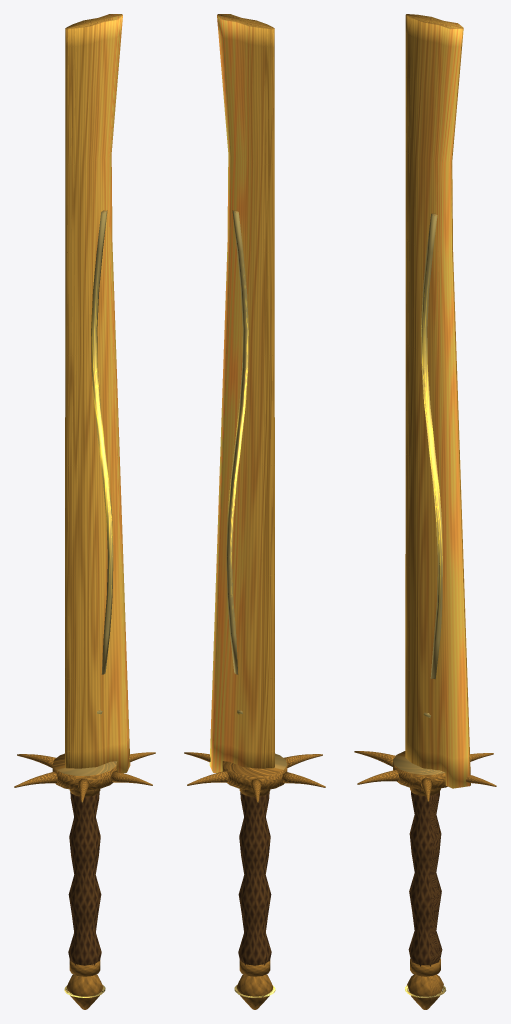
The model's file is sword_04_sunbark_vow.glb.
3 views of the same model, side by side, from view 1: azimuth 30°, elevation 25°; view 2: azimuth 150°, elevation 25°; view 3: azimuth 330°, elevation 25° (orthographic).
Parts seen in each view (by area): view 1: Blade_SunbarkVowGreatsword, Grip_SunleatherHilt, Inlay_SunburstFullers, Guard_RisingSunDisc, Pommel_SunDialBulb, Ferrule_GildedSunBronze; view 2: Blade_SunbarkVowGreatsword, Grip_SunleatherHilt, Inlay_SunburstFullers, Guard_RisingSunDisc, Pommel_SunDialBulb, Ferrule_GildedSunBronze; view 3: Blade_SunbarkVowGreatsword, Grip_SunleatherHilt, Inlay_SunburstFullers, Guard_RisingSunDisc, Pommel_SunDialBulb, Ferrule_GildedSunBronze.
Boxes of the visible parts, x1=… form: Blade_SunbarkVowGreatsword: x1=65, y1=14, x2=130, y2=772; Grip_SunleatherHilt: x1=68, y1=789, x2=101, y2=965; Inlay_SunburstFullers: x1=91, y1=210, x2=113, y2=674; Guard_RisingSunDisc: x1=14, y1=752, x2=155, y2=802; Pommel_SunDialBulb: x1=64, y1=974, x2=105, y2=1009; Ferrule_GildedSunBronze: x1=69, y1=789, x2=100, y2=976; Blade_SunbarkVowGreatsword: x1=209, y1=14, x2=274, y2=772; Grip_SunleatherHilt: x1=238, y1=789, x2=271, y2=965; Inlay_SunburstFullers: x1=226, y1=210, x2=248, y2=674; Guard_RisingSunDisc: x1=184, y1=752, x2=325, y2=802; Pommel_SunDialBulb: x1=234, y1=974, x2=275, y2=1009; Ferrule_GildedSunBronze: x1=239, y1=789, x2=270, y2=976; Blade_SunbarkVowGreatsword: x1=405, y1=14, x2=470, y2=788; Grip_SunleatherHilt: x1=408, y1=789, x2=442, y2=966; Inlay_SunburstFullers: x1=421, y1=213, x2=442, y2=679; Guard_RisingSunDisc: x1=354, y1=751, x2=496, y2=801; Pommel_SunDialBulb: x1=405, y1=974, x2=446, y2=1009; Ferrule_GildedSunBronze: x1=410, y1=788, x2=440, y2=976.
Size of the model in its own units: 0.3896 by 2.6 by 0.3122.
1 material, 1 textured.
